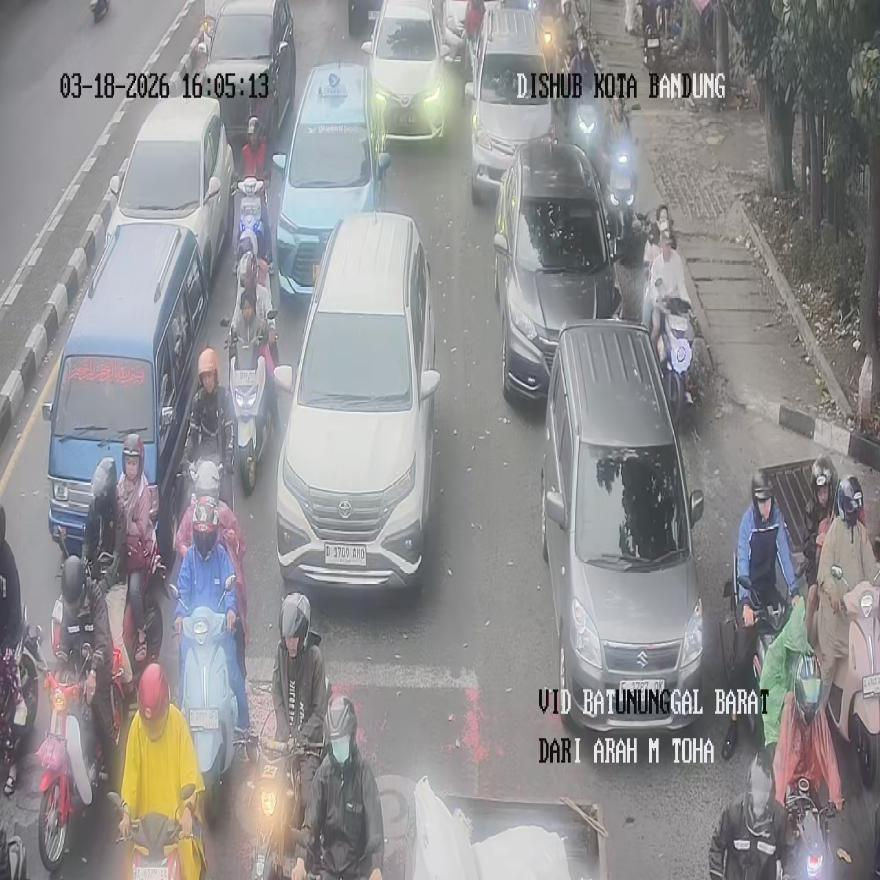Motor: (540, 319, 704, 731), (274, 212, 440, 590), (43, 223, 209, 576), (492, 136, 622, 402), (270, 62, 390, 302), (105, 94, 234, 295), (463, 7, 552, 200), (200, 0, 294, 150), (361, 0, 446, 145)
Truk: (36, 652, 124, 870), (249, 676, 331, 880), (176, 576, 243, 825), (720, 576, 790, 756), (825, 567, 880, 787), (709, 749, 784, 878), (108, 783, 207, 879), (227, 318, 278, 492), (0, 616, 43, 795), (657, 294, 695, 426), (779, 794, 836, 880), (231, 174, 271, 290), (604, 137, 638, 260), (642, 1, 664, 75), (536, 10, 561, 74), (89, 0, 109, 24)
